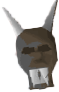mask: (1, 1, 59, 92)
